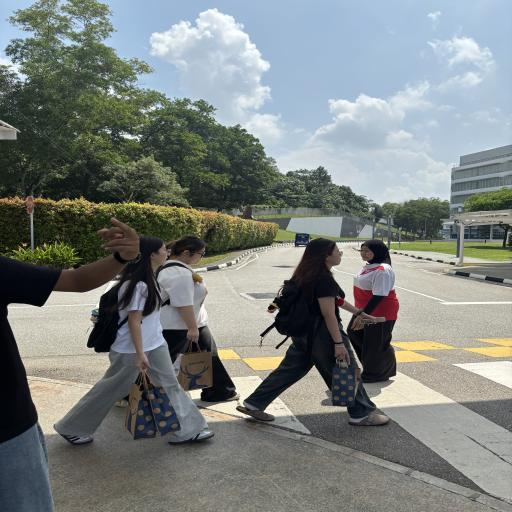person_left: (344, 230, 412, 386)
person_right: (92, 224, 176, 447), (264, 236, 350, 426), (165, 234, 235, 398)
